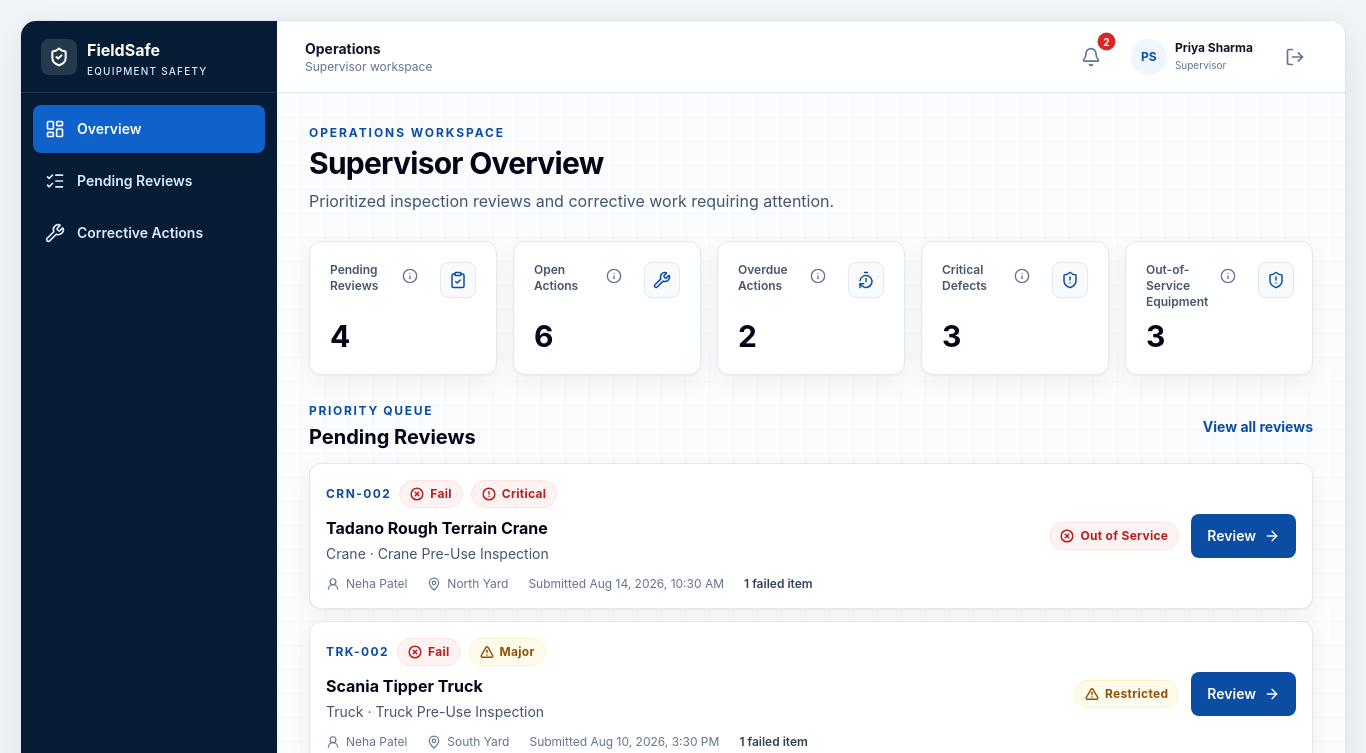
TASK-031 Supervisor actionable notifications › marks read only on activation and deep-links to the correct review
This screenshot has width=1366, height=753.
Click the button named "Notifications, 2 unread" at (1091, 56), box [1071,36,1111,76]
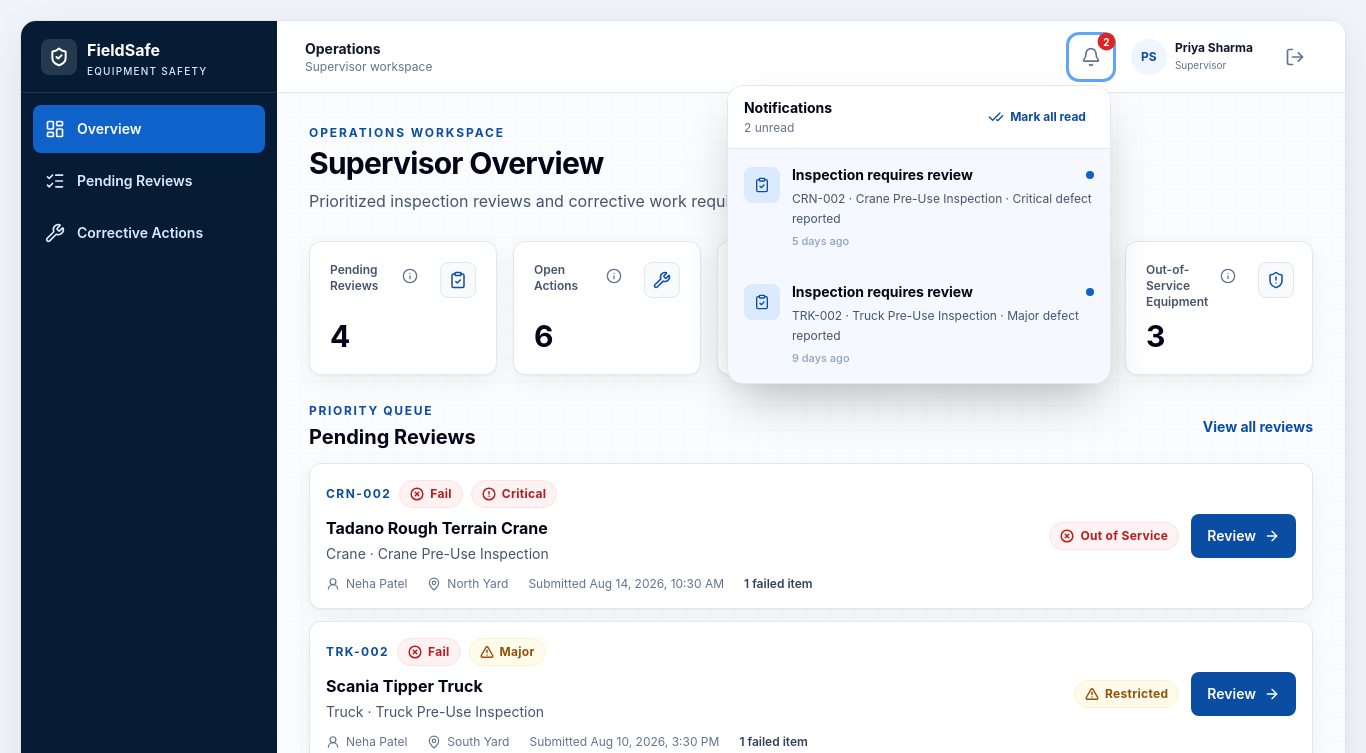
Hover over the button with aria-label "Open Inspection requires review" at (919, 207), box [728,148,1110,266]
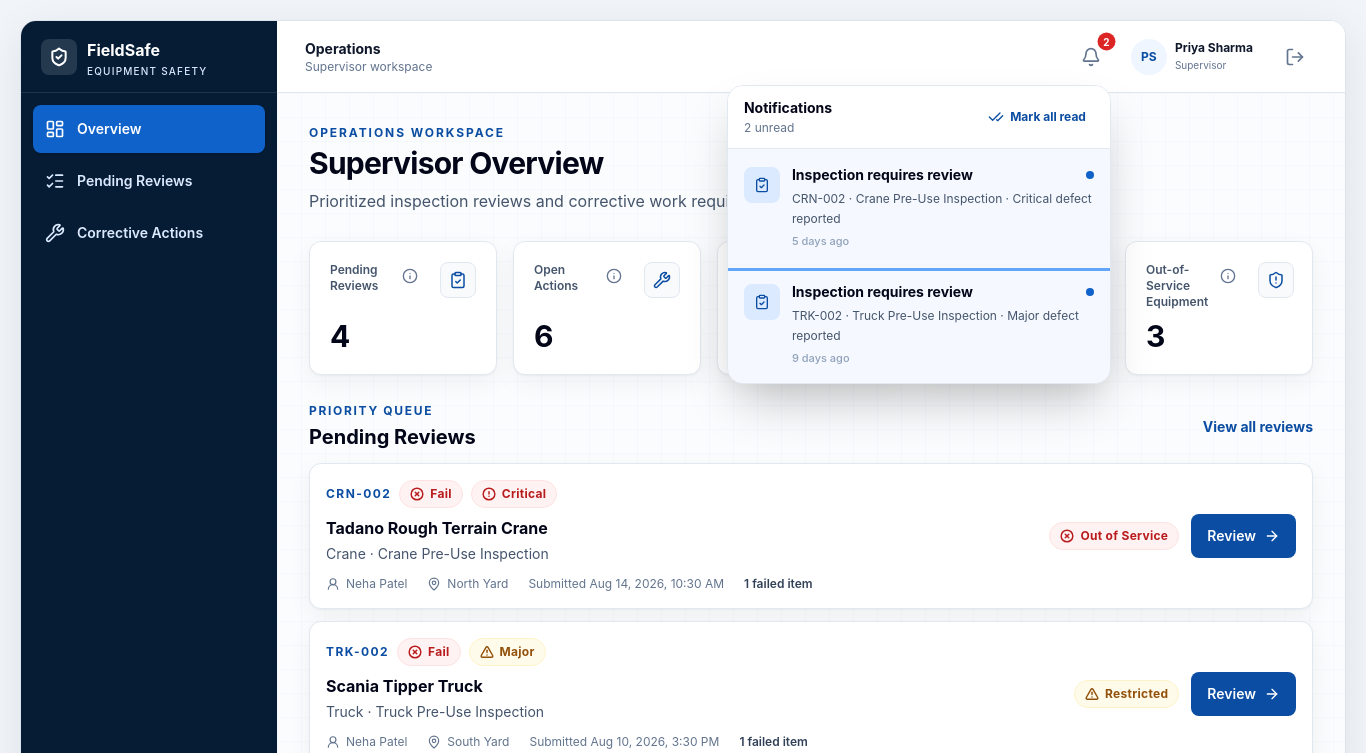
Press Space in the button with aria-label "Open Inspection requires review", box [728,148,1110,266]
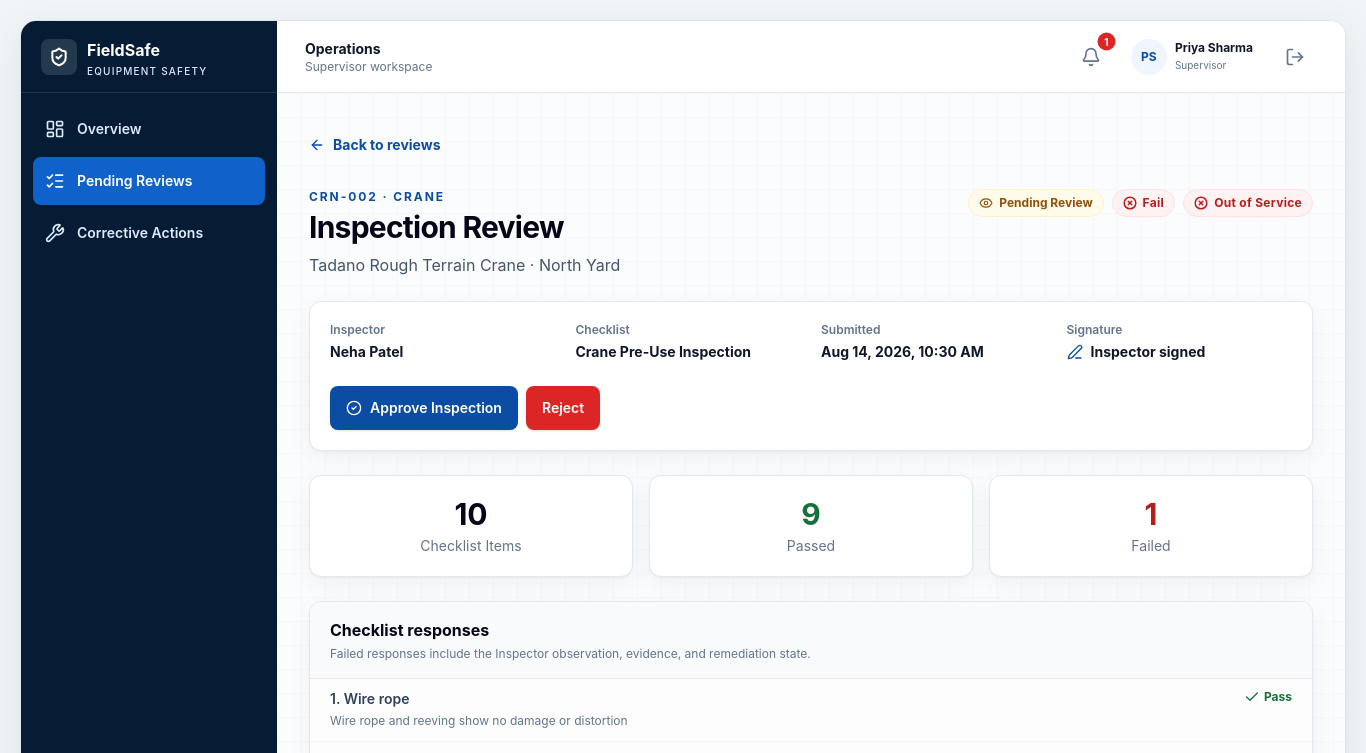
Check: the heading "Inspection Review" is shown, box [309,209,564,245]
